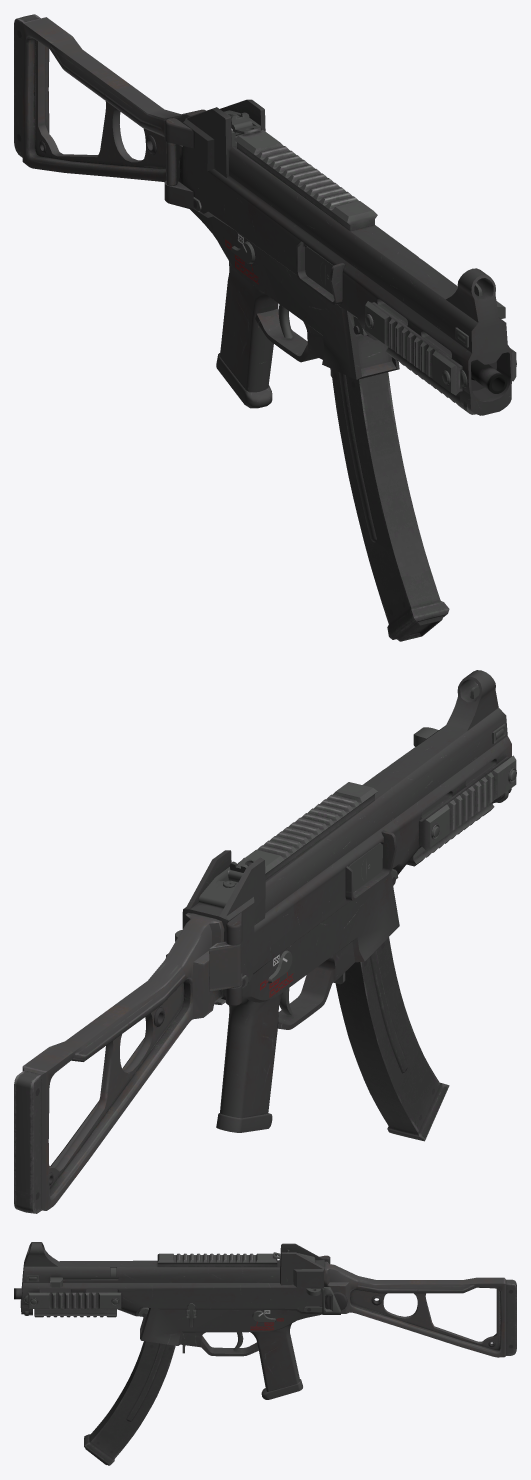
The model's file is raw.glb.
The picture shows the model from 3 angles, top to bottom: view 1: azimuth 30°, elevation 25°; view 2: azimuth 150°, elevation 25°; view 3: azimuth 270°, elevation 25°; orthographic projection. The views are drawn at different scales.
Visible parts, largest first — view 1: ump9_LOD0; view 2: ump9_LOD0; view 3: ump9_LOD0.
Part boxes in pixels (x1=…): ump9_LOD0: x1=14, y1=14, x2=516, y2=641; ump9_LOD0: x1=14, y1=670, x2=516, y2=1213; ump9_LOD0: x1=14, y1=1242, x2=516, y2=1465.
Size of the model in its own units: 0.0464 by 0.2342 by 0.4861.
Materials: 1 (1 with a texture image).
